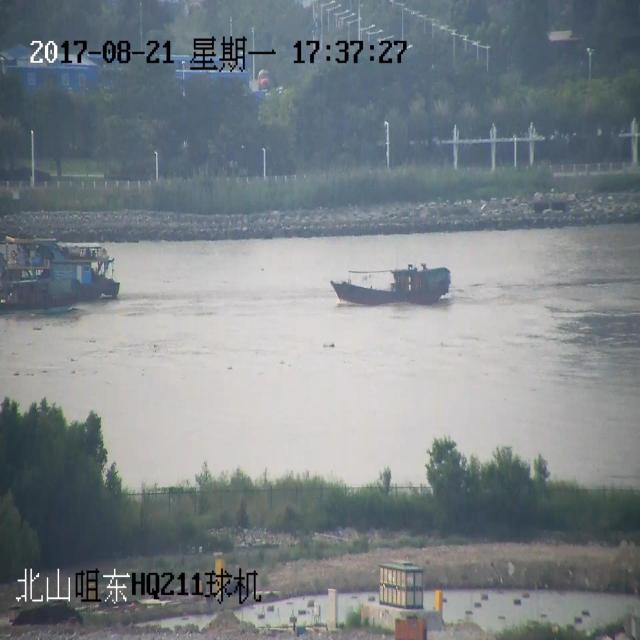cargoship: (2, 232, 156, 312)
fishing boat: (322, 251, 454, 325)
